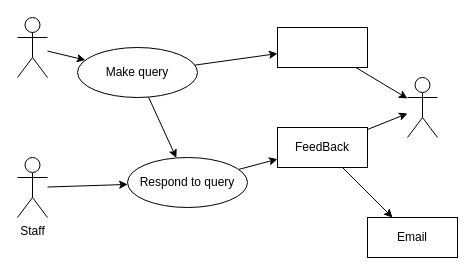
This 475x275 diagram has some shape labels left out. The shapes that lost their labels are listed below. From the top down, each one's box as (x1, y1, x2, y2) in pixels, then its label:
(16, 16, 48, 78): Client
(276, 26, 368, 68): Query
(406, 76, 438, 138): System
